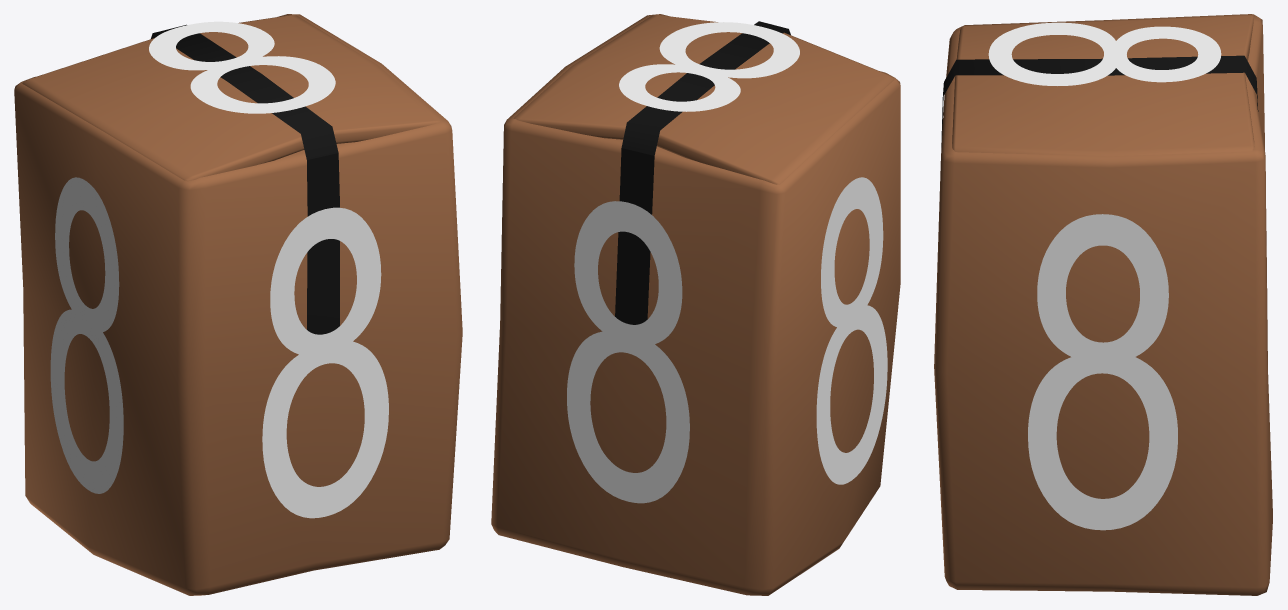
The model's file is Parcel_v1_bigboy.FBX.
3 views of the same model, side by side, from view 1: azimuth 30°, elevation 25°; view 2: azimuth 150°, elevation 25°; view 3: azimuth 270°, elevation 25° (orthographic). The views are drawn at different scales.
Parts seen in each view (by area): view 1: Box001; view 2: Box001; view 3: Box001.
Boxes of the visible parts, left/top/right/bottom form: Box001: left=14, top=14, right=462, bottom=595; Box001: left=491, top=14, right=900, bottom=595; Box001: left=934, top=14, right=1272, bottom=595.
Bounding box in the file's own units: 45.36 × 65.12 × 42.54.
